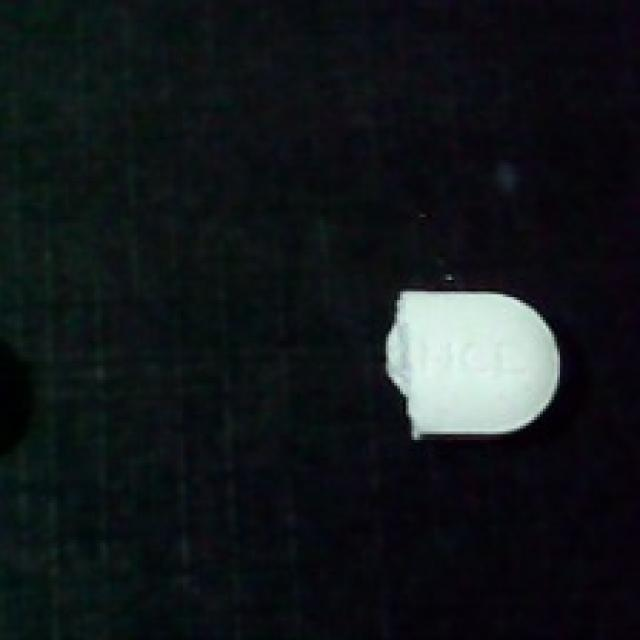defected: (377, 280, 566, 443)
